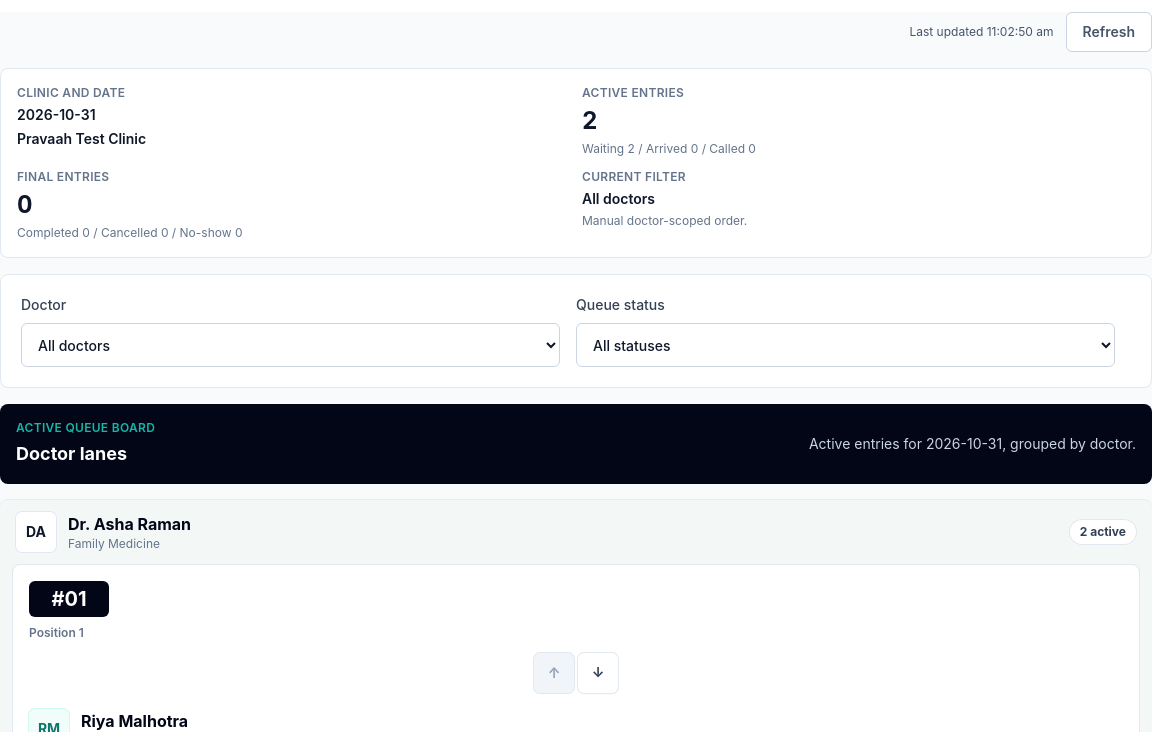
Test: QueuePage manual reorder controls › keeps the last successful timestamp and rows when refresh fails
The width and height of the screenshot is (1164, 732).
expect the heading "Riya Malhotra" is shown: met, box top-left (81, 709), bottom-right (197, 731)
expect the text "Last updated 11:02:50 am" is shown: met, box top-left (909, 24), bottom-right (1054, 40)
Click the button "Refresh".
click(1109, 32)  # box top-left (1066, 12), bottom-right (1152, 52)
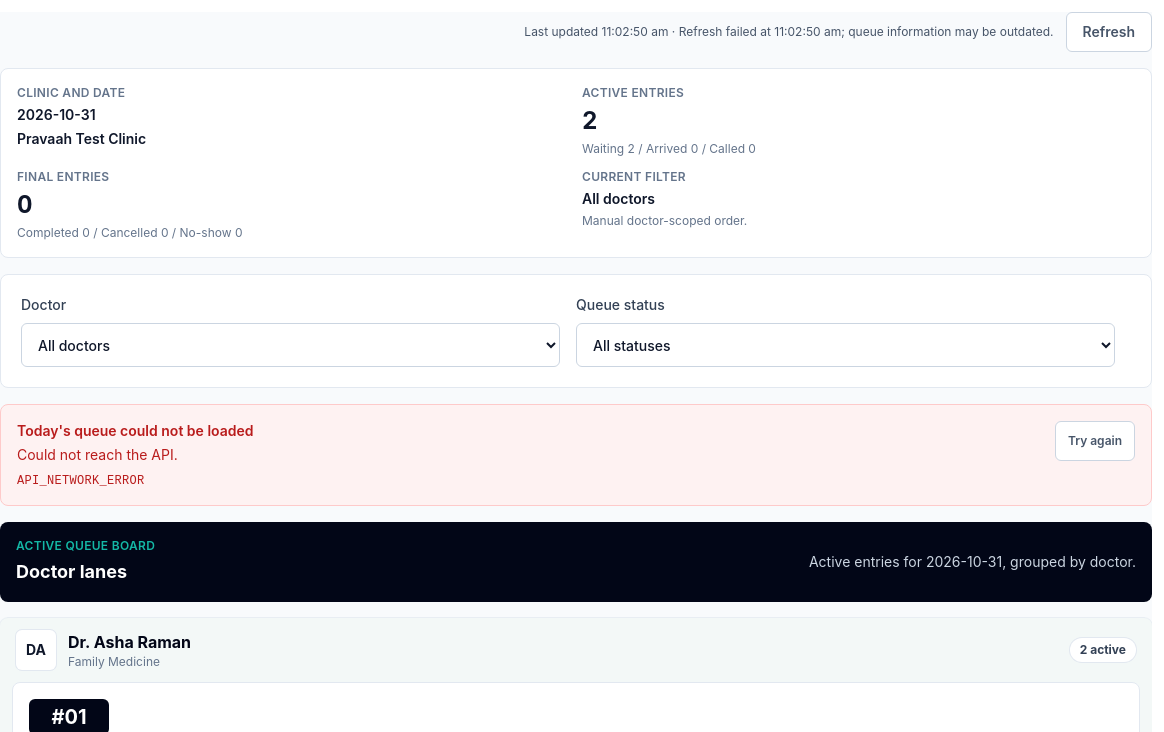
expect the text "Could not reach the API." is shown: met, box top-left (17, 446), bottom-right (178, 463)
Click the button "Refresh".
click(1109, 32)  # box top-left (1066, 12), bottom-right (1152, 52)
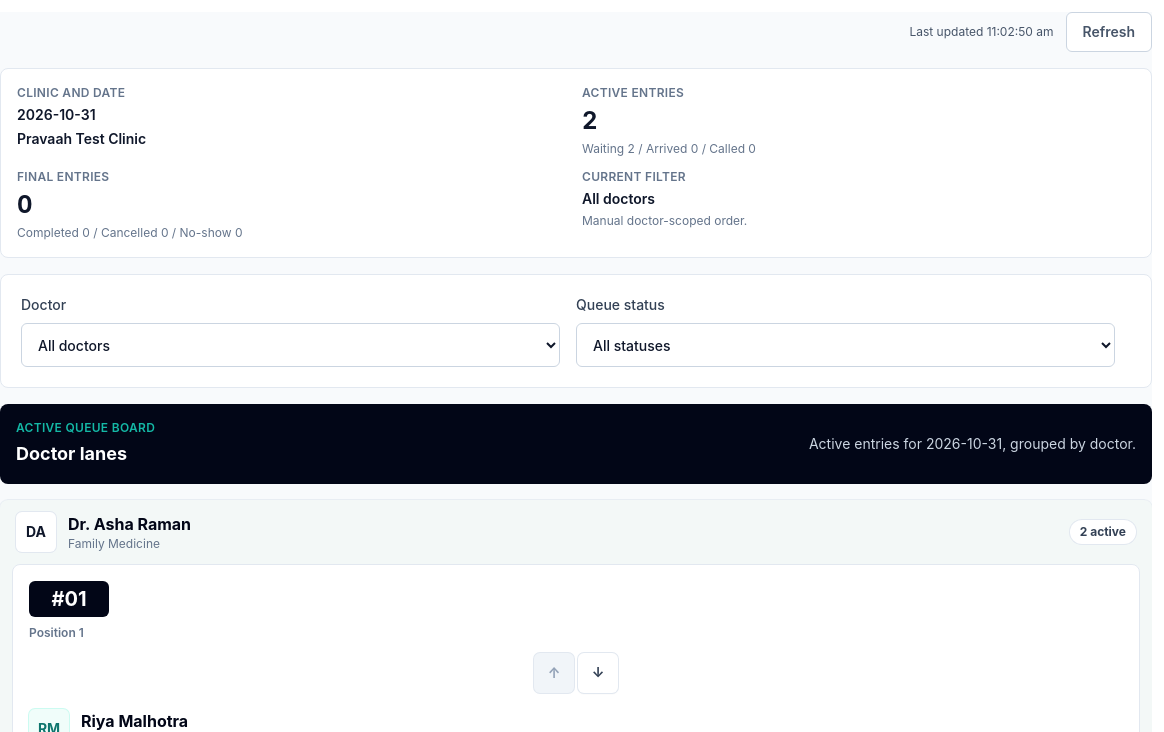
expect the button named "move riya malhotra down" is enabled: met, box top-left (578, 653), bottom-right (618, 693)
